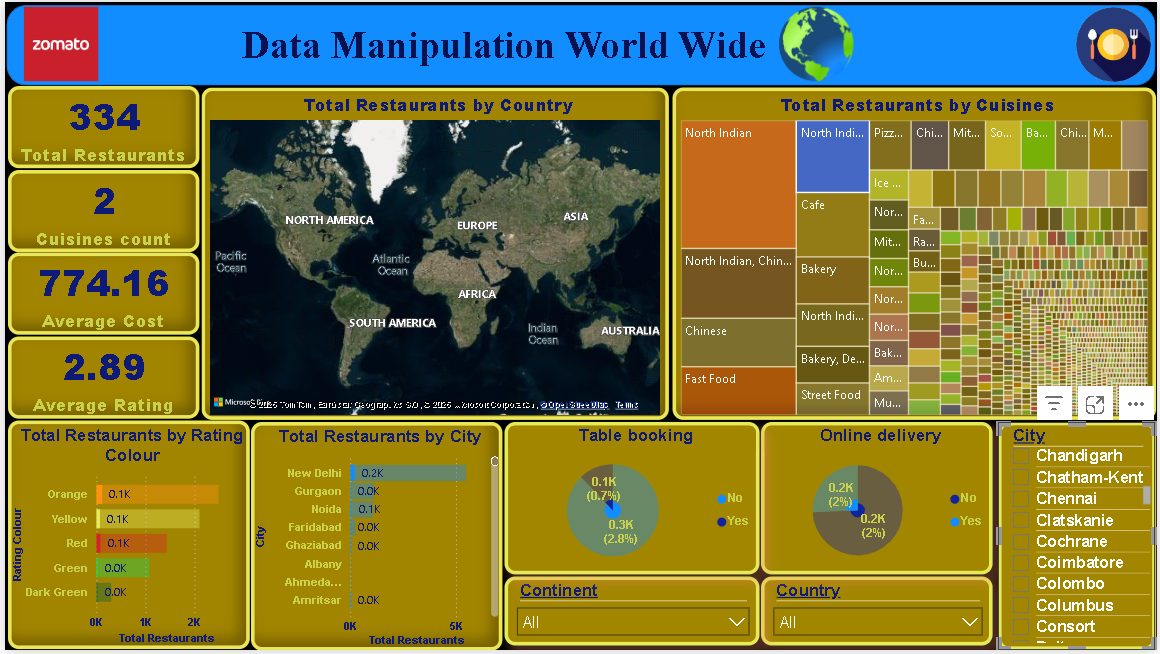

The page's visual inventory and layout, read from the dashboard file:
{"tool":"powerbi","page":{"name":"Page 1","canvas":[1280,720],"ordinal":0},"visuals":[{"type":"image","box":[15.5,0,94.5,93.1],"z":0,"group":"g2"},{"type":"slicer","fields":{"Values":["Country-Code.Country"]},"box":[840.4,639.1,257.2,76.7],"z":0},{"type":"textbox","box":[133.9,9.9,841.7,77.5],"z":1000,"group":"g2"},{"type":"slicer","fields":{"Values":["Country-Code.Continent"]},"box":[554.4,639.1,283,76.7],"z":1000},{"type":"image","box":[853,0,95.9,93.1],"z":2000,"group":"g2"},{"type":"slicer","fields":{"Values":["Zomato Global.City"]},"box":[1102.6,466.7,177.7,253.8],"z":2000},{"type":"image","box":[1185.8,0,93.1,94.5],"z":3000,"group":"g2"},{"type":"clusteredBarChart","fields":{"Category":["Zomato Global.City"],"Y":["Zomato Global.Total Restaurants"]},"box":[273.2,466,279.6,254],"z":3000},{"type":"clusteredBarChart","fields":{"Y":["Zomato Global.Total Restaurants"],"Category":["Fact Table.Rating Colour"]},"box":[3.2,464.4,268.4,254],"z":4000},{"type":"pieChart","title":"Online delivery","fields":{"Y":["Zomato Global.Total Restaurants"],"Category":["Fact Table.Has Online delivery"]},"box":[840.4,466.5,257.2,169.4],"z":5000},{"type":"pieChart","title":"Table booking","fields":{"Y":["Zomato Global.Total Restaurants"],"Category":["Fact Table.Has Table booking"]},"box":[554.4,466.5,283,169.4],"z":6000},{"type":"card","fields":{"Values":["Zomato Global.Total Restaurants"]},"box":[3.9,93.7,212.5,91.1],"z":7000,"group":"g1"},{"type":"filledMap","title":"Total Restaurants by Country ","fields":{"Category":["Country-Code.Country"],"Series":["Country-Code.Country"]},"box":[218.9,94.3,519,369.1],"z":7000},{"type":"group","id":"g1","title":"Group 1","box":[3.9,93.7,212.5,369.1],"z":8000},{"type":"card","fields":{"Values":["Cuisines.Cuisines count"]},"box":[3.9,186.4,212.5,91.1],"z":8000,"group":"g1"},{"type":"treemap","fields":{"Group":["Zomato Global.Cuisines"],"Values":["Zomato Global.Total Restaurants"]},"box":[741.3,94.3,537,369],"z":9000},{"type":"card","fields":{"Values":["Fact Table.Average Cost"]},"box":[3.9,279,212.5,91.1],"z":9000,"group":"g1"},{"type":"shape","box":[1.6,3.2,1276.5,89.5],"z":9001,"group":"g3"},{"type":"group","id":"g2","title":"Group 2","box":[15.5,0,1263.3,94.5],"z":9006,"group":"g3"},{"type":"group","id":"g3","title":"Group 3","box":[1.6,0,1277.2,94.5],"z":9007},{"type":"card","fields":{"Values":["Fact Table.Average Rating"]},"box":[3.9,371.7,212.5,91.1],"z":10000,"group":"g1"}]}

Visuals, with their boxes in screenshot pixels (x1, y1, x2, y2), scaled from the page's 1280x720 canvas onto the 1160x654 screenshot:
image: 14,0,100,85
slicer - Country-Code.Country: 762,581,995,650
textbox: 121,9,884,79
slicer - Country-Code.Continent: 502,581,759,650
image: 773,0,860,85
slicer - Zomato Global.City: 999,424,1159,653
image: 1075,0,1159,86
clusteredBarChart - Zomato Global.City x Zomato Global.Total Restaurants: 248,423,501,653
clusteredBarChart - Zomato Global.Total Restaurants x Fact Table.Rating Colour: 3,422,246,653
"Online delivery" pieChart: 762,424,995,578
"Table booking" pieChart: 502,424,759,578
card - Zomato Global.Total Restaurants: 4,85,196,168
"Total Restaurants by Country " filledMap: 198,86,669,421
"Group 1" group: 4,85,196,420
card - Cuisines.Cuisines count: 4,169,196,252
treemap - Zomato Global.Cuisines x Zomato Global.Total Restaurants: 672,86,1158,421
card - Fact Table.Average Cost: 4,253,196,336
shape: 1,3,1158,84
"Group 2" group: 14,0,1159,86
"Group 3" group: 1,0,1159,86
card - Fact Table.Average Rating: 4,338,196,420
